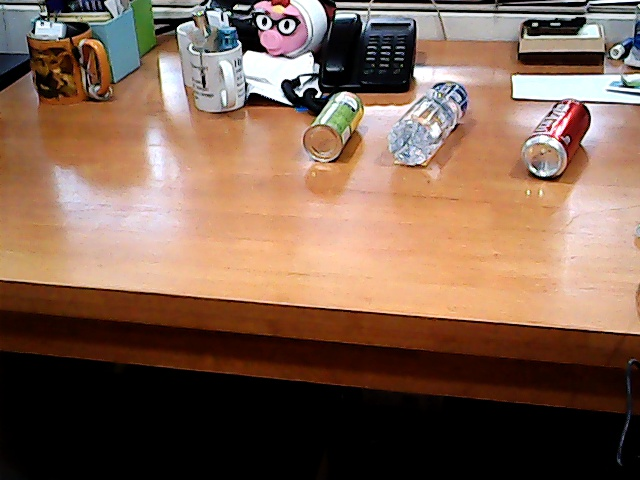Cola: (505, 75, 599, 198)
Pine Juice: (291, 77, 371, 178)
Summit Water: (378, 68, 486, 174)
